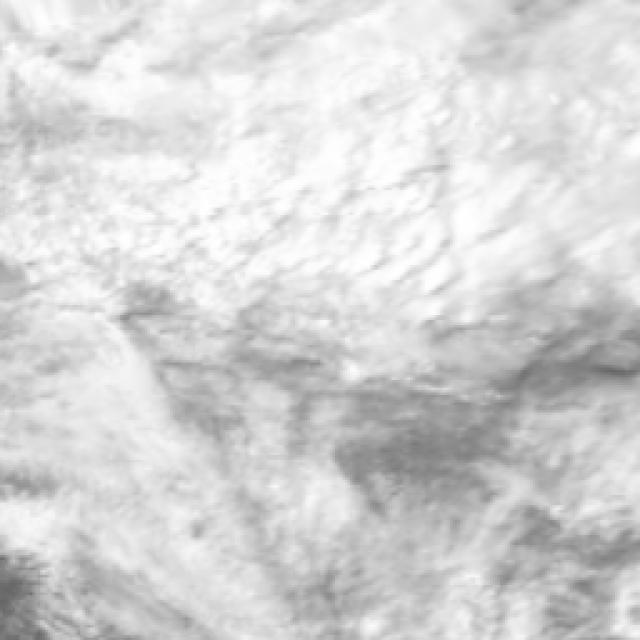CB: (141, 68, 473, 286)
